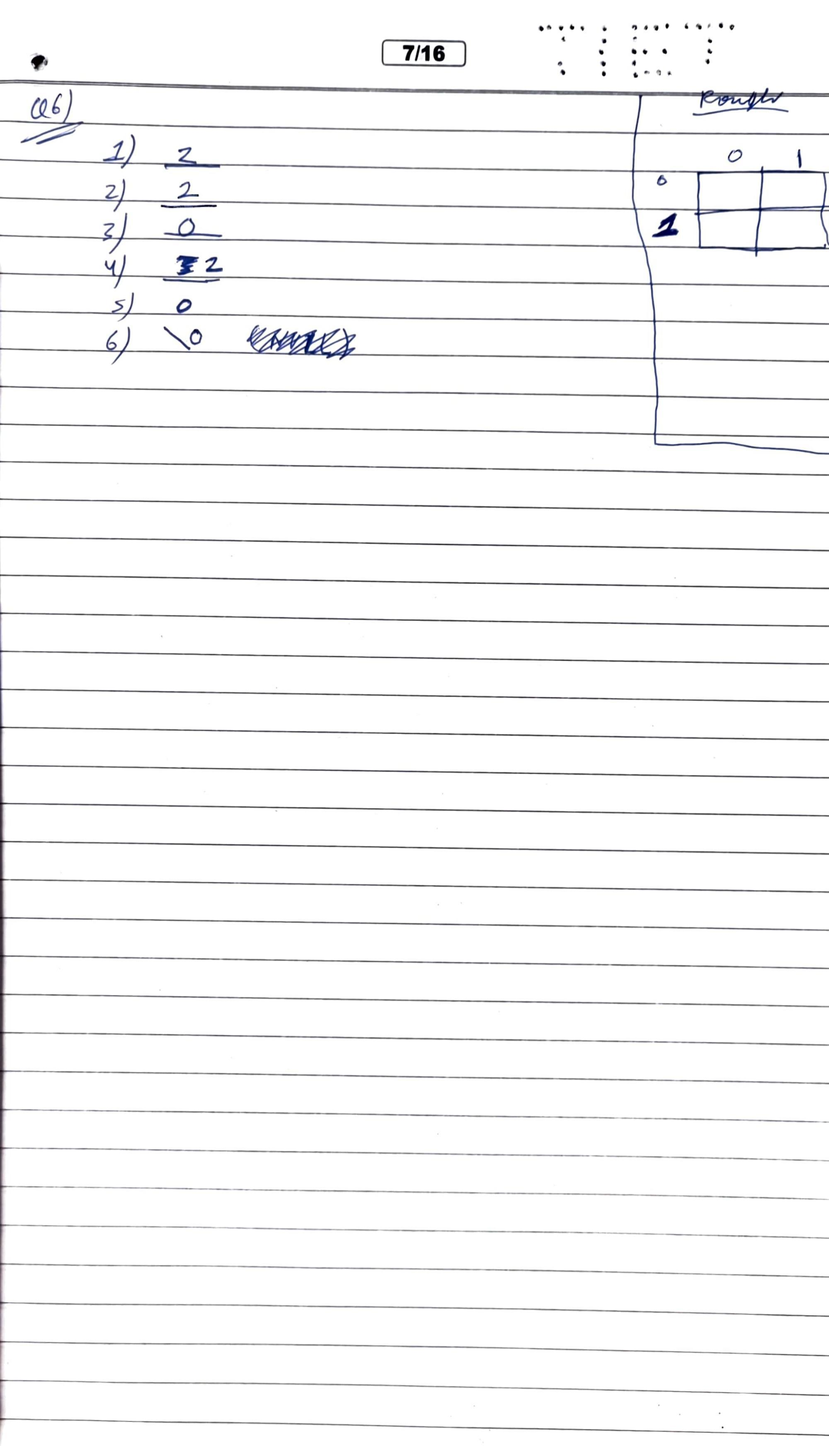cuttings: (246, 323, 359, 360), (173, 253, 200, 278)
